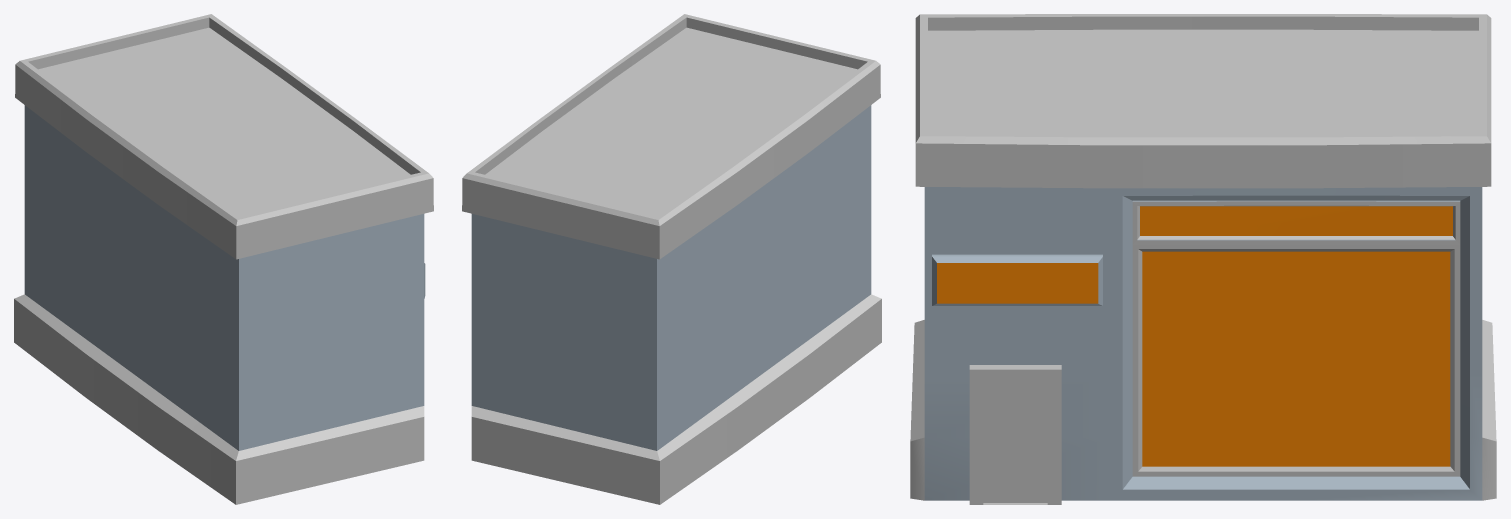
File: Building_01.FBX
3 views of the same model, side by side, from view 1: azimuth 30°, elevation 25°; view 2: azimuth 150°, elevation 25°; view 3: azimuth 270°, elevation 25° (orthographic). The views are drawn at different scales.
Parts seen in each view (by area): view 1: Box001; view 2: Box001; view 3: Box001, Door.
Boxes of the visible parts, left/top/right/bottom form: Box001: left=14, top=14, right=433, bottom=504; Box001: left=462, top=14, right=881, bottom=504; Box001: left=910, top=14, right=1496, bottom=500; Door: left=969, top=365, right=1061, bottom=504.
Size of the model in its own units: 442 by 582 by 841.
